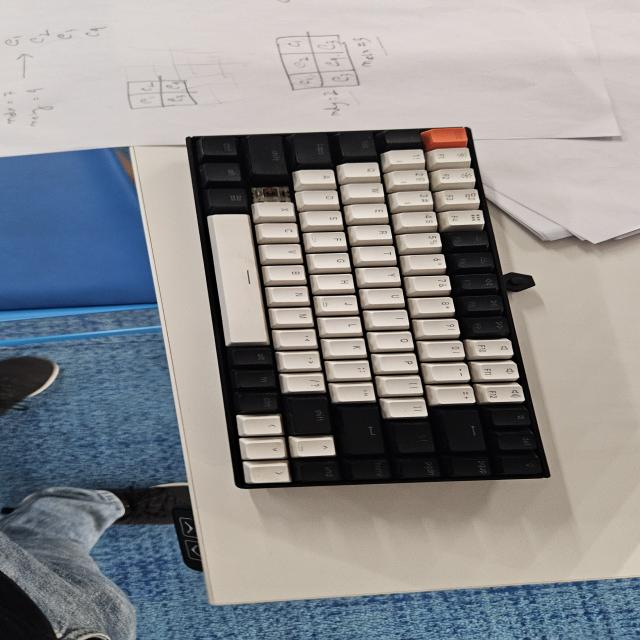C: (254, 182, 292, 201)
